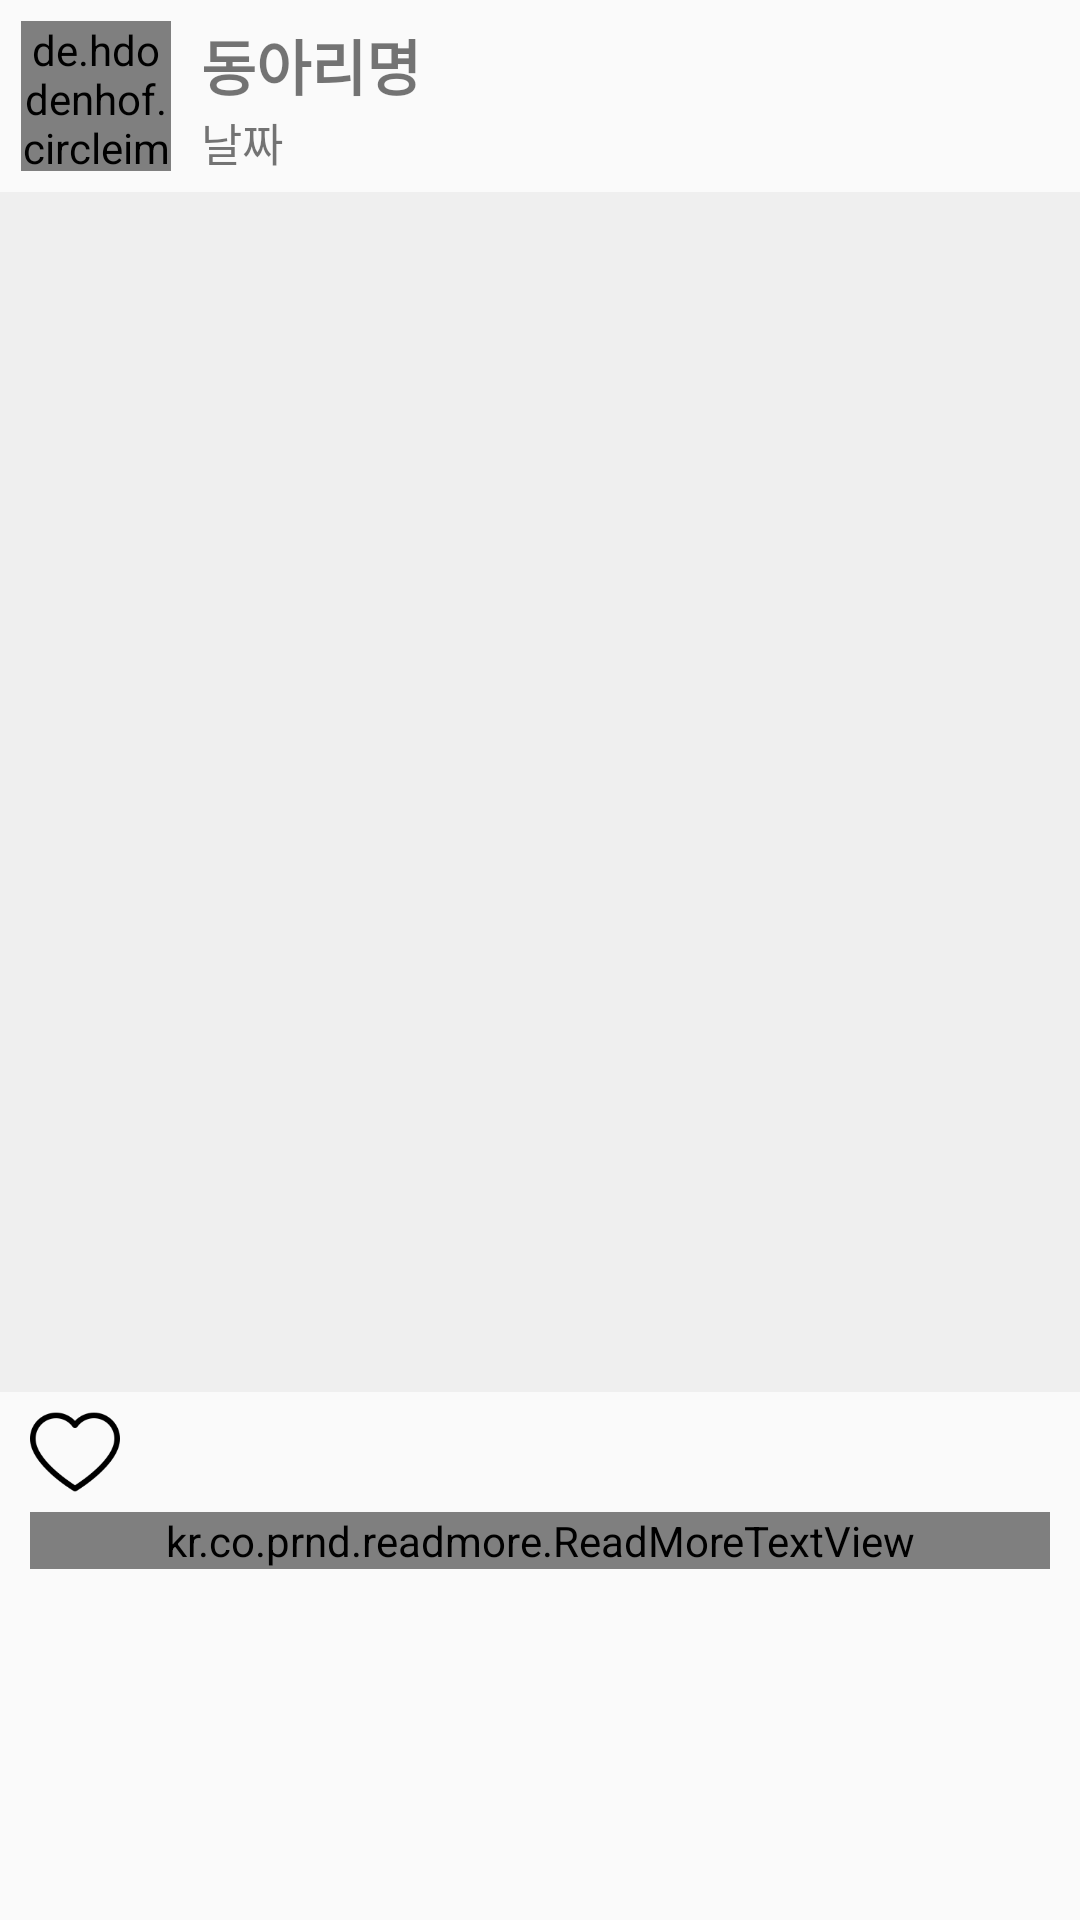

Screen size 1080px x 1920px. Icon name, then its center in pixels as [x,y]:
좋아요 버튼: [75,1452]
